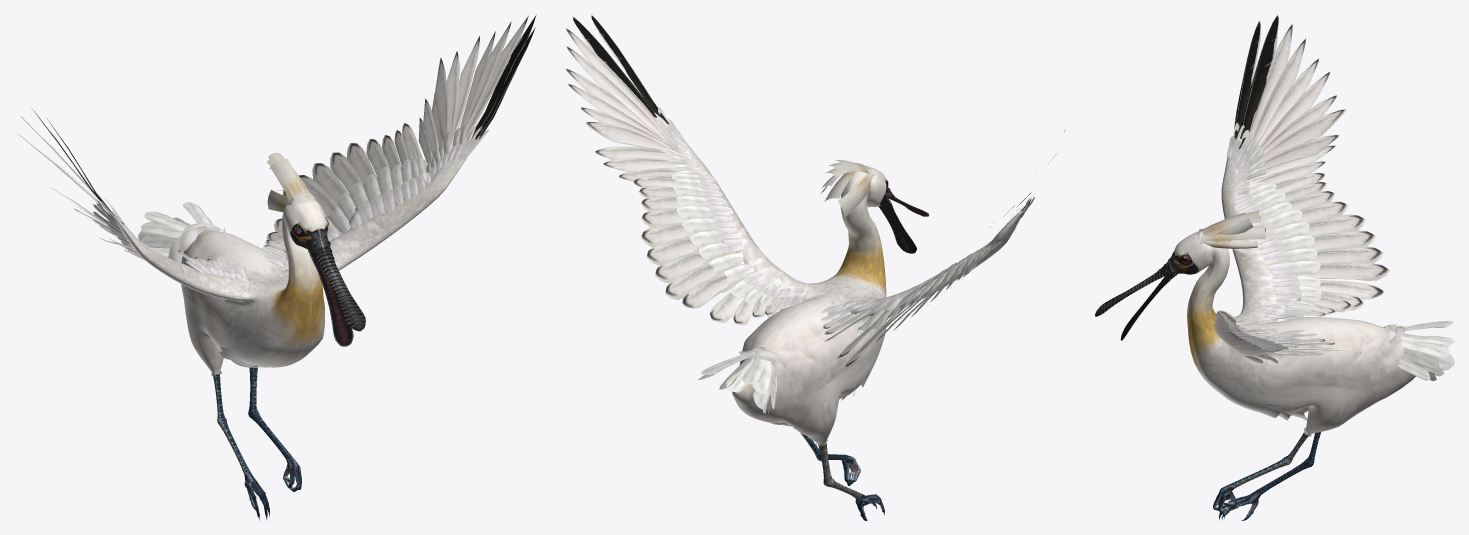
The model's file is black.glb.
3 views of the same model, side by side, from view 1: azimuth 30°, elevation 25°; view 2: azimuth 150°, elevation 25°; view 3: azimuth 270°, elevation 25° (orthographic). The views are drawn at different scales.
Parts seen in each view (by area): view 1: Box003Mesh; view 2: Box003Mesh; view 3: Box003Mesh.
Boxes of the visible parts, left/top/right/bottom form: Box003Mesh: left=17, top=14, right=536, bottom=520; Box003Mesh: left=565, top=14, right=1064, bottom=520; Box003Mesh: left=1095, top=14, right=1454, bottom=520.
Size of the model in its own units: 0.2065 by 0.1764 by 0.1393.
Materials: 16 (16 with a texture image).
